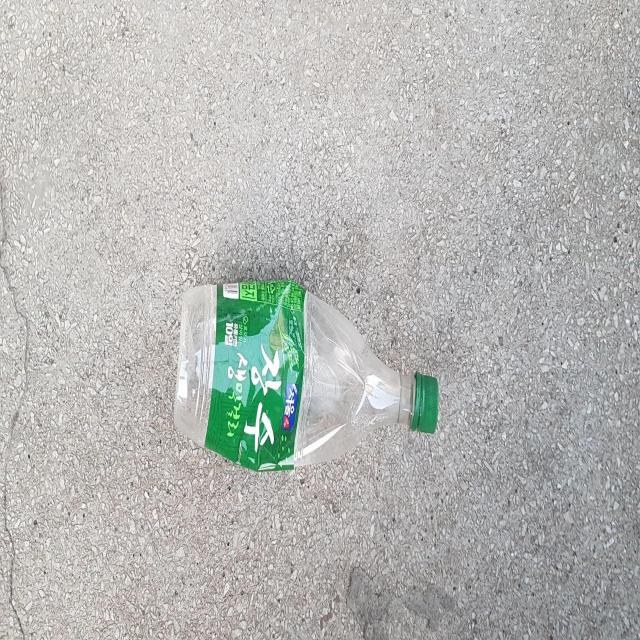plastic: (173, 280, 439, 471)
